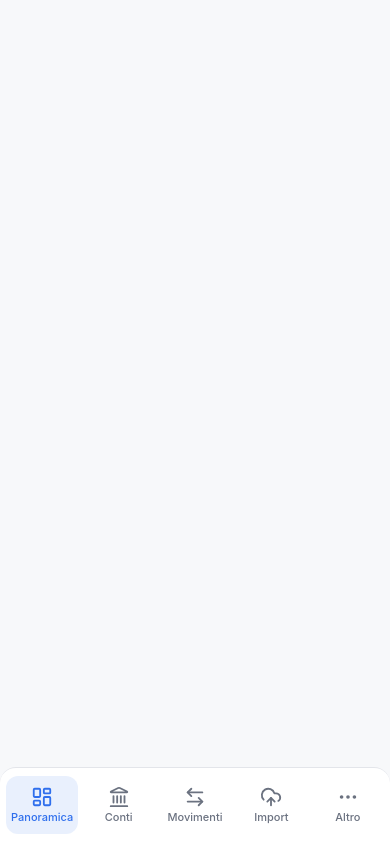
Scenario: MobileNav › 'Altro' espande le altre voci e diventa 'Chiudi'
Click the button "Altro" at {"x": 348, "y": 805}, box [312,776,384,834]
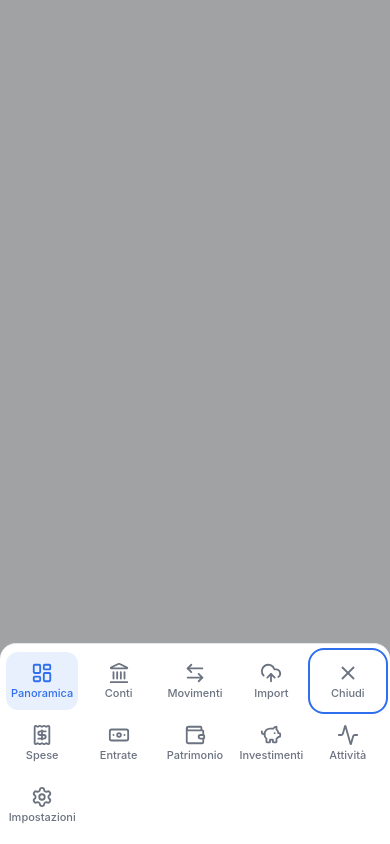
Result: the button "Chiudi" is expanded
Result: the link "Spese" is shown at [26,724,59,762]
Result: the link "Entrate" is shown at [100,724,137,762]
Click the button "Chiudi" at {"x": 348, "y": 681}, box [312,652,384,710]
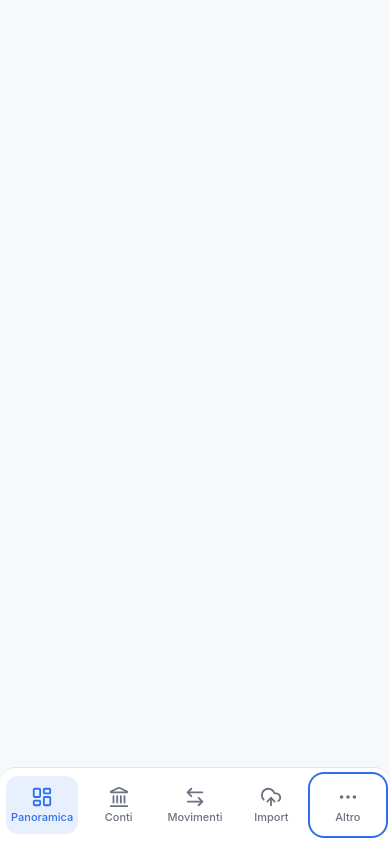
Result: the button "Altro" is shown at [312,776,384,834]
